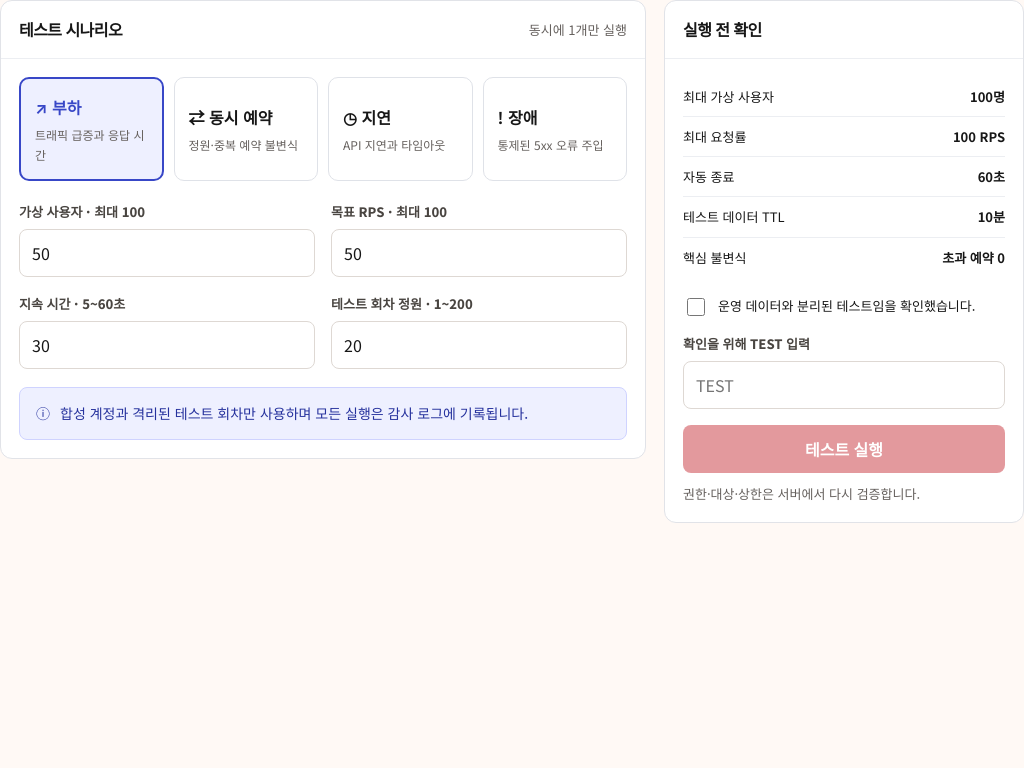
Test: run button unlocks only after the safety check, TEST and valid inputs
Expected: the button "테스트 실행" is disabled, [683,425,1005,473]
Step 1. Click the checkbox labelled "운영 데이터와 분리된 테스트임을 확인했습니다." → (696, 307), box [687,298,705,316]
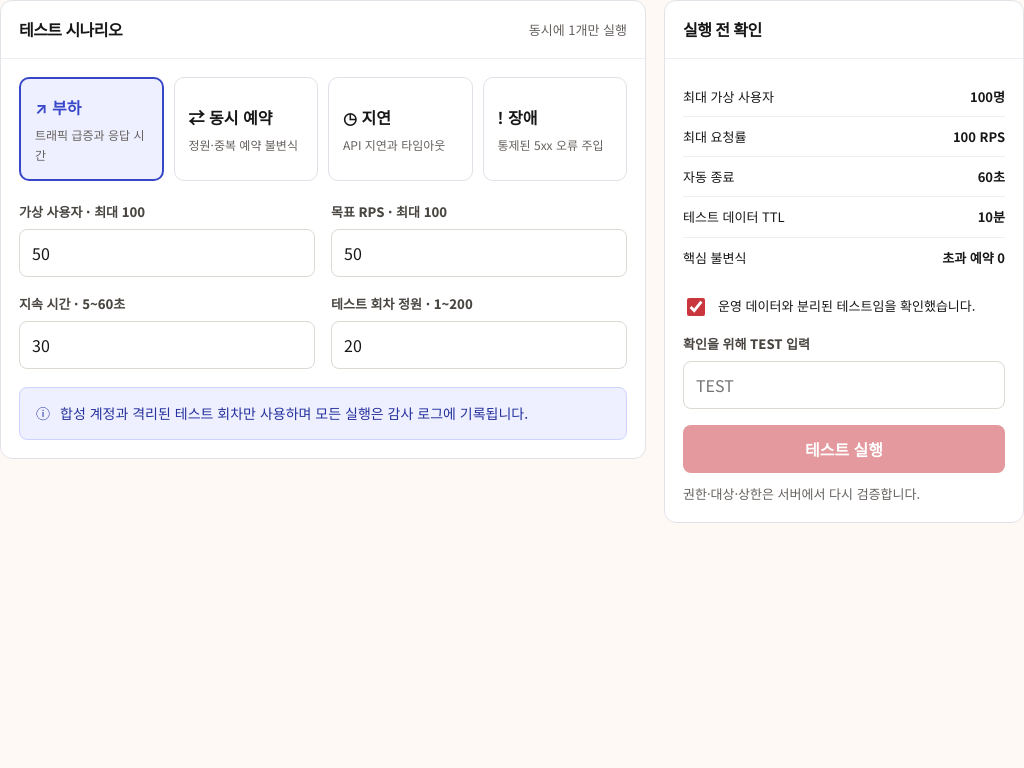
Step 2. Type "test" into the field labelled "확인을 위해 TEST 입력" → (844, 385), box [683,361,1005,409]
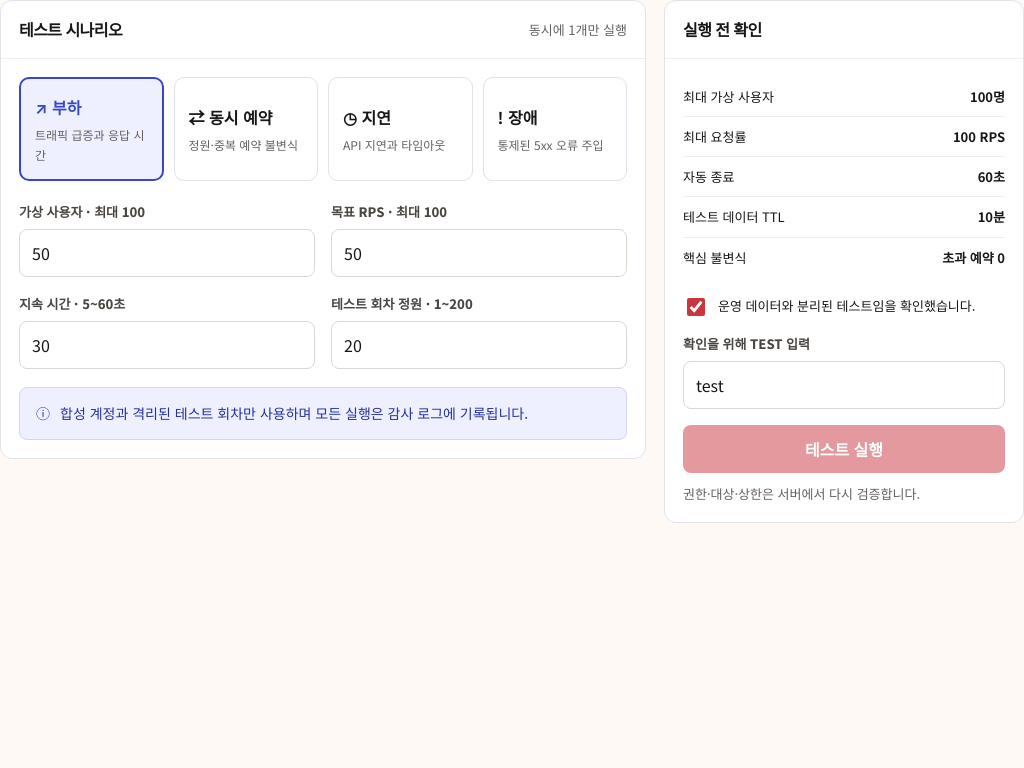
Expected: the button "테스트 실행" is disabled, [683,425,1005,473]
Step 3. Replace the text in the field labelled "확인을 위해 TEST 입력" with "TEST" → (844, 385), box [683,361,1005,409]
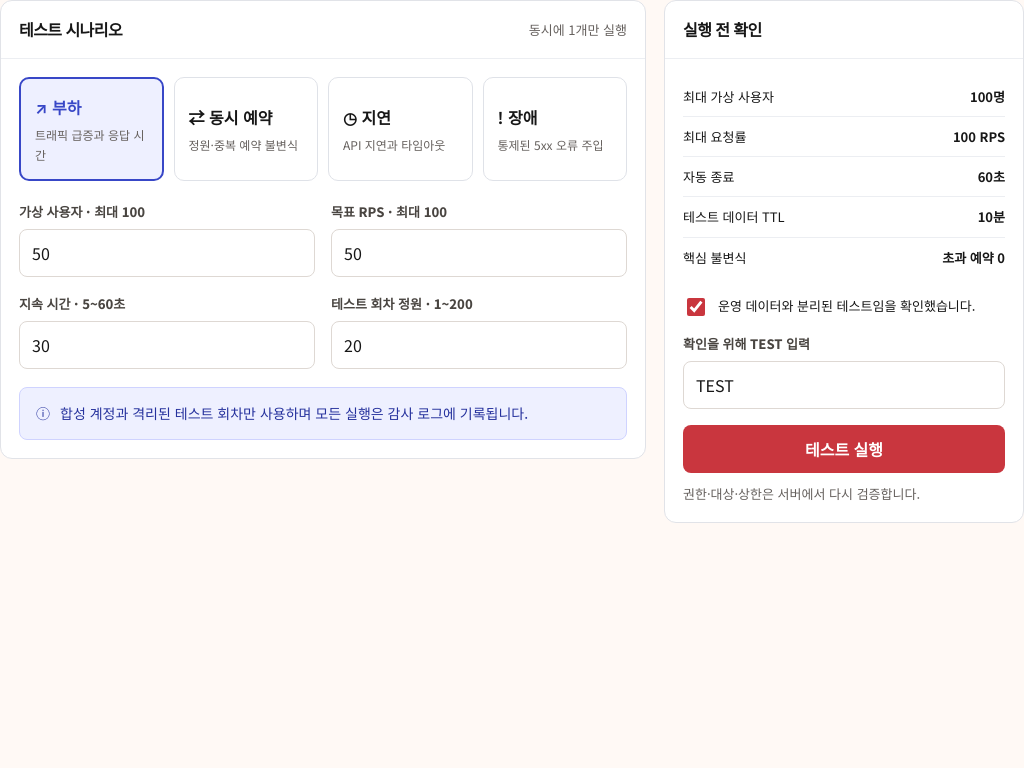
Now the button "테스트 실행" is enabled, box [683,425,1005,473]
Step 4. Replace the text in the number field labelled "가상 사용자 · 최대 100" with "101" → (167, 253), box [19,229,315,277]
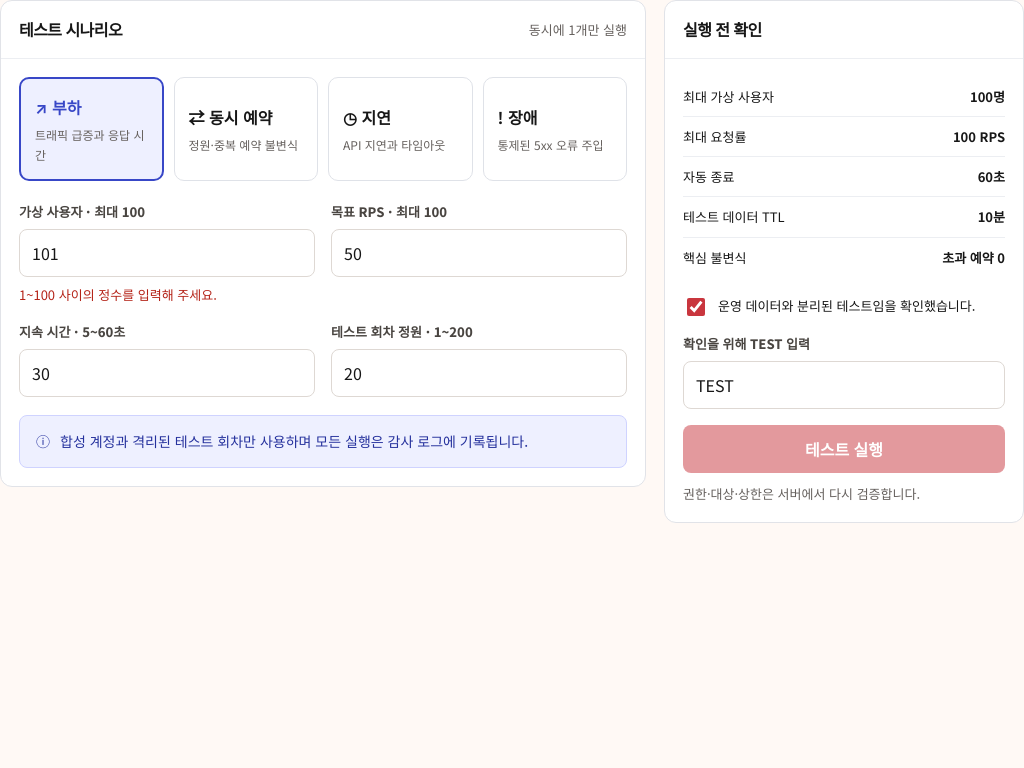
Now the button "테스트 실행" is disabled, box [683,425,1005,473]
Now the text "1~100 사이의 정수를 입력해 주세요." is shown, box [19,285,217,304]
